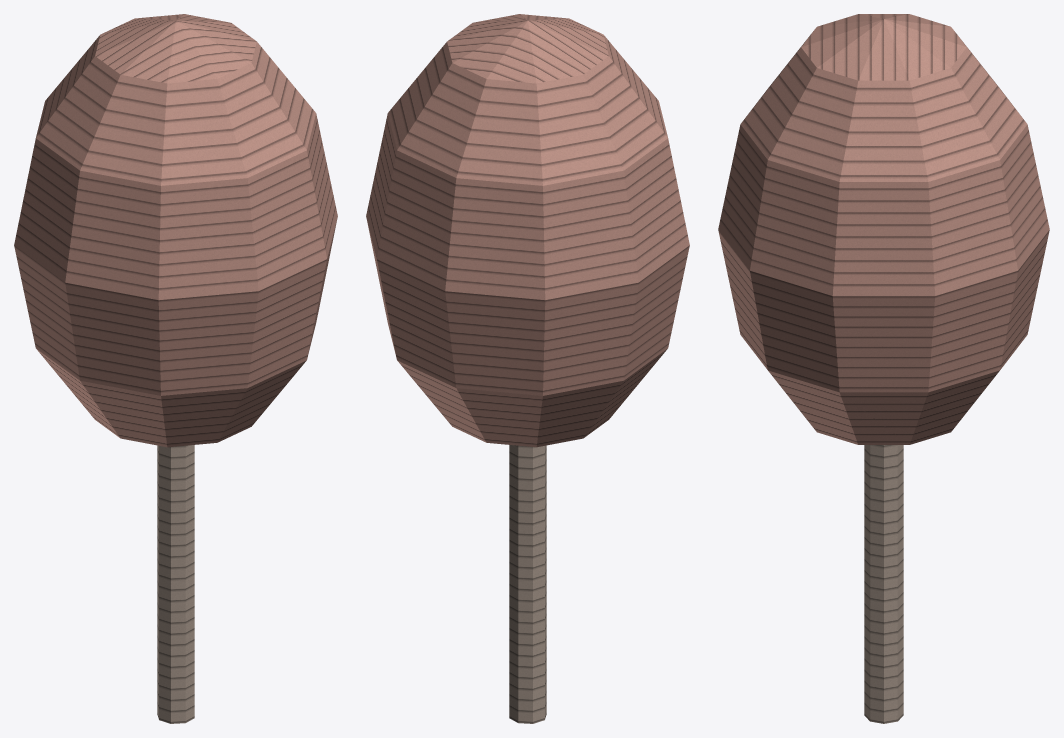
Rendered from tree_kentucky_coffeetree.glb.
The picture shows the model from 3 angles, left to right: view 1: azimuth 30°, elevation 25°; view 2: azimuth 150°, elevation 25°; view 3: azimuth 270°, elevation 25°; orthographic projection.
Visible parts, largest first — view 1: tree_kentucky_coffeetree-col; view 2: tree_kentucky_coffeetree-col; view 3: tree_kentucky_coffeetree-col.
Boxes of the visible parts, box(x1,y1,x2,y2) form: tree_kentucky_coffeetree-col: box(14, 14, 337, 723); tree_kentucky_coffeetree-col: box(366, 14, 689, 723); tree_kentucky_coffeetree-col: box(718, 14, 1049, 723).
Bounding box in the file's own units: 3.23 × 7.88 × 3.4.
2 materials, 2 textured.
